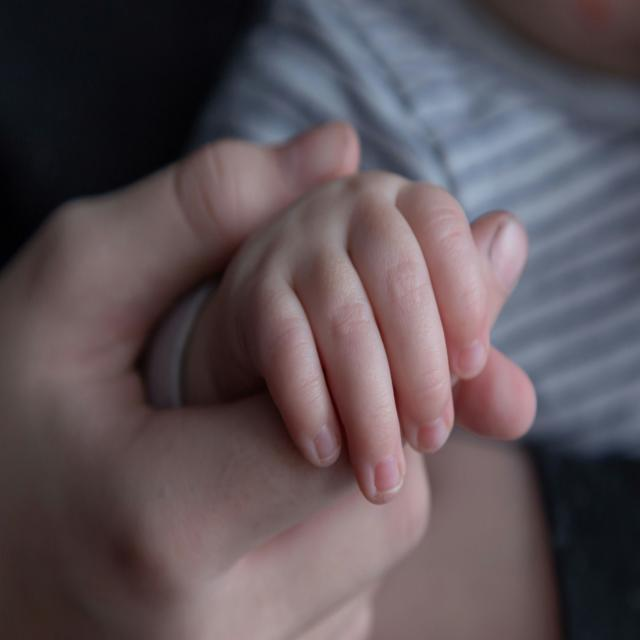Fingernail: (280, 119, 346, 185), (490, 220, 529, 296), (375, 456, 404, 495), (417, 417, 447, 450), (458, 342, 485, 375), (314, 427, 338, 458)
